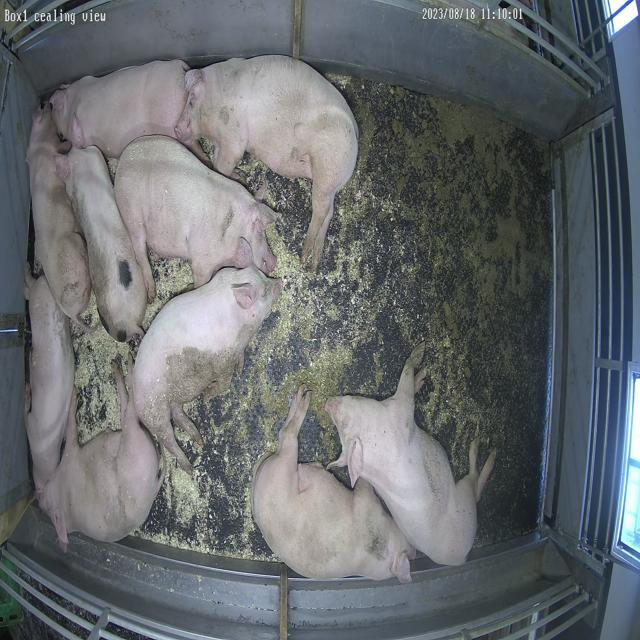Dirt: (192, 75, 552, 546)
Pig: (176, 55, 358, 268), (326, 344, 497, 566), (253, 388, 416, 584), (133, 267, 281, 474), (114, 135, 276, 300), (39, 366, 161, 544), (65, 146, 147, 342), (26, 104, 90, 320), (49, 61, 188, 156), (25, 274, 74, 496)
